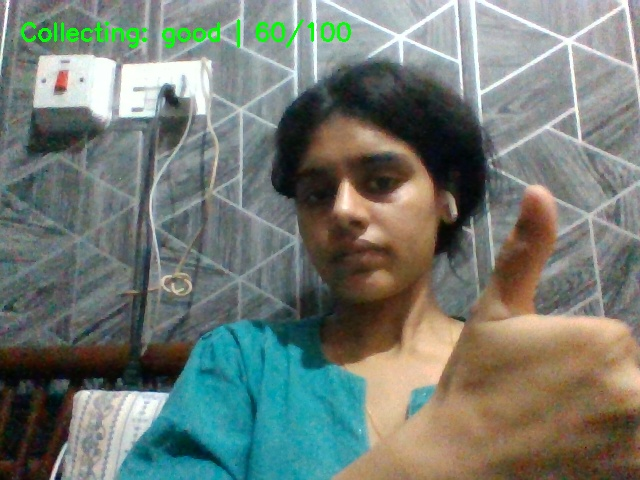good: (435, 158, 625, 480)
